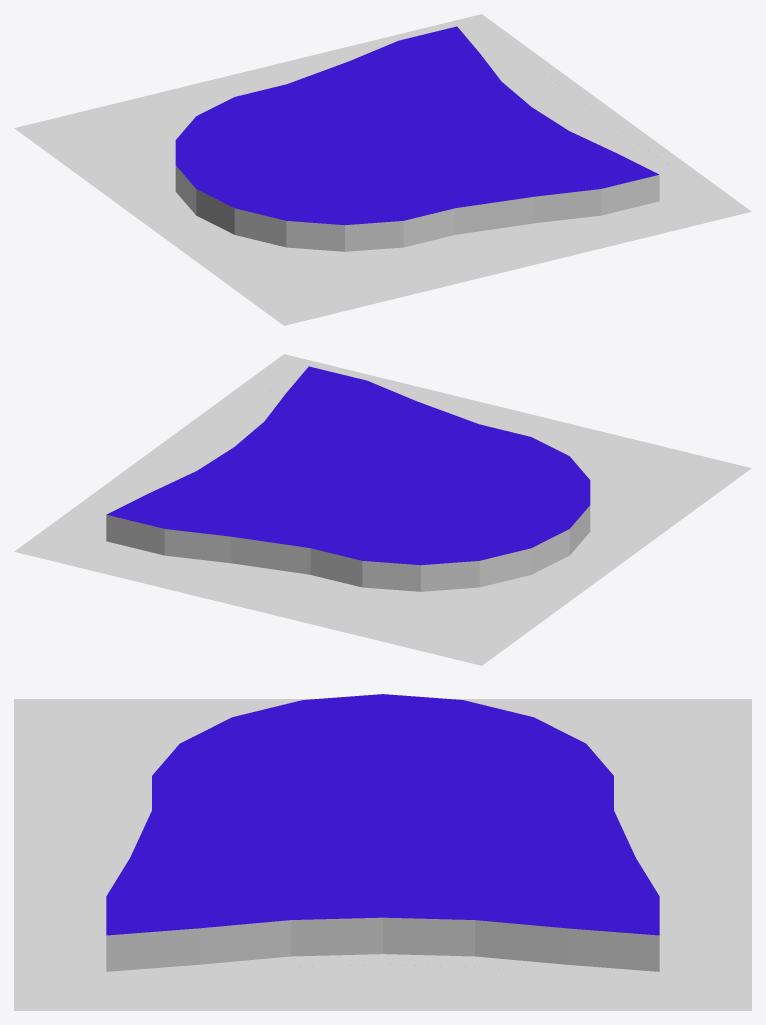
Rendered from OrGate.fbx.
3 renders of one model, top to bottom at view 1: azimuth 30°, elevation 25°; view 2: azimuth 150°, elevation 25°; view 3: azimuth 270°, elevation 25°, orthographic. The views are drawn at different scales.
Visible parts, largest first — view 1: OrGate; view 2: OrGate; view 3: OrGate.
Boxes of the visible parts, x1,y1,x2,y2 form: OrGate: (14,14,751,325); OrGate: (14,354,751,665); OrGate: (14,694,751,1010).
Size of the model in its own units: 200 by 10.9 by 200.
